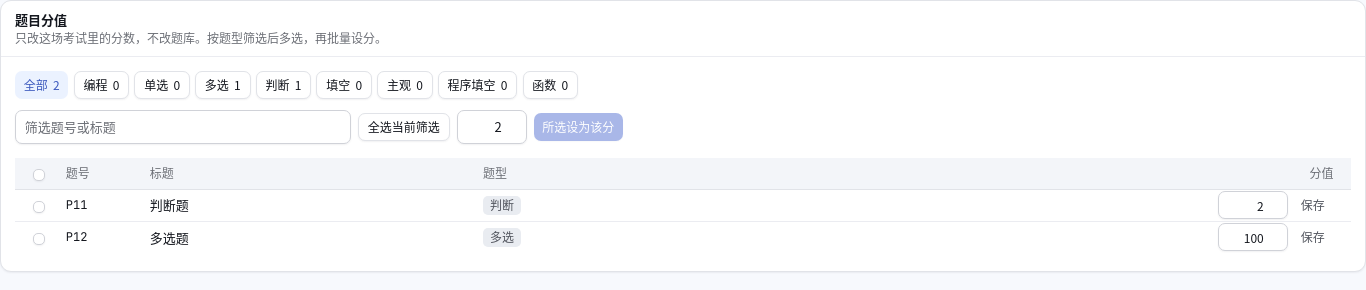
exam contest score batch UI › filters by kind, selects visible rows, and posts set_scores for the selection
Click the button "判断 1".
click(284, 85)  # box 256,71 -> 311,99
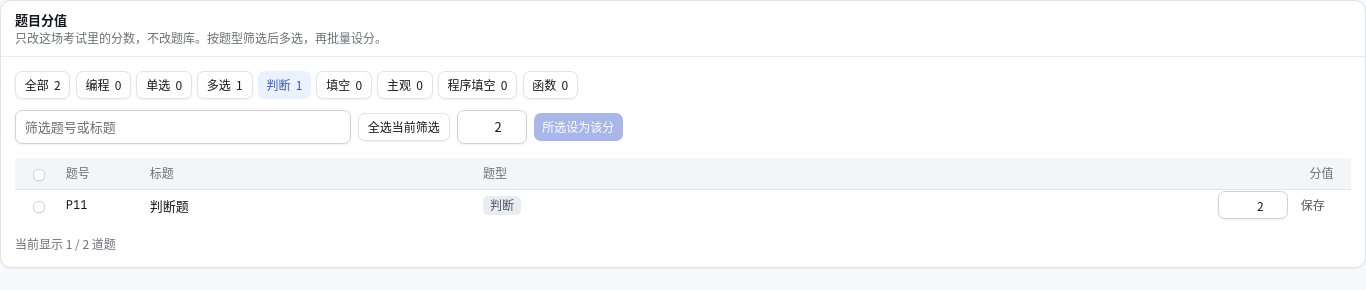
Check: the text "判断题" is shown, box 150,196 -> 189,214
Check: the text "多选题" is gone
Click the button "全选当前筛选".
click(404, 126)  # box 358,112 -> 450,140
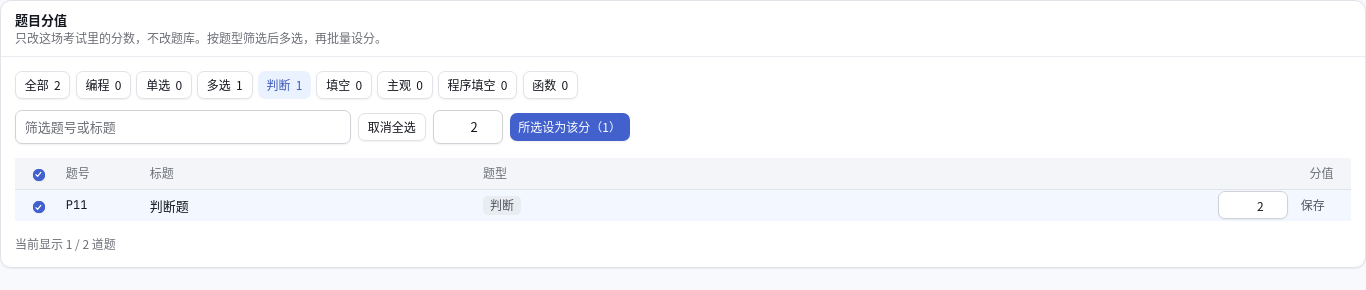
Check: the form named "pids" holds "11", box 432,110 -> 630,144
Check: the button "所选设为该分（1）" is shown, box 510,112 -> 630,140
